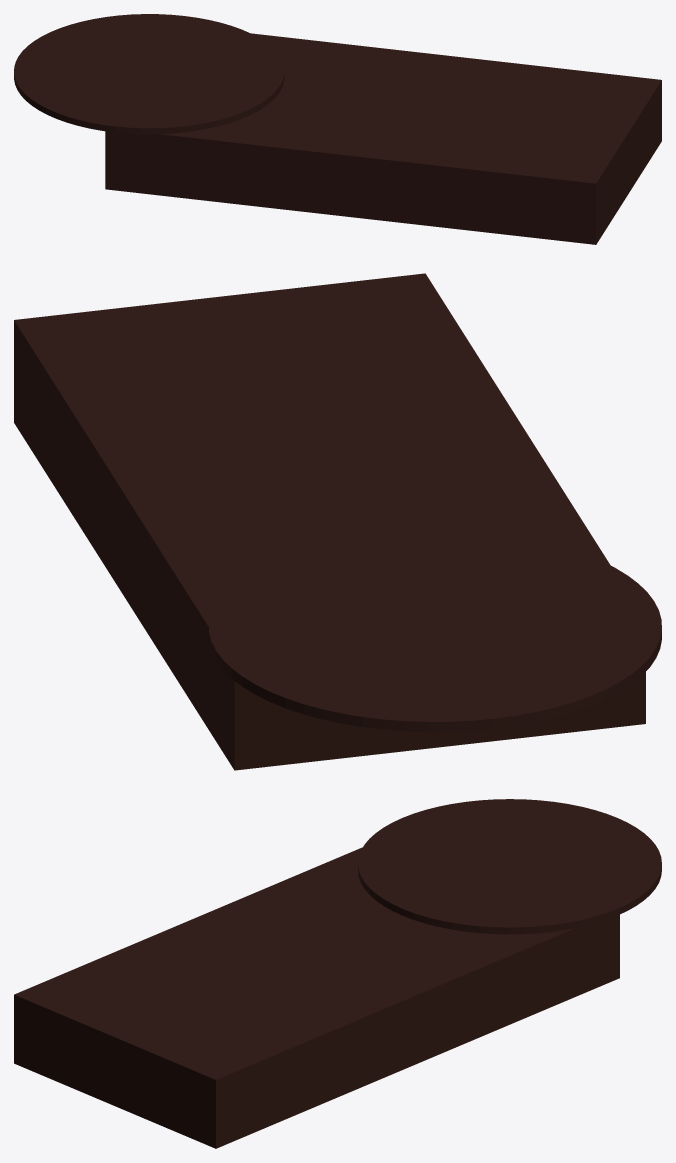
Rendered from RocketPlatform.fbx.
The picture shows the model from 3 angles, top to bottom: view 1: azimuth 30°, elevation 25°; view 2: azimuth 150°, elevation 25°; view 3: azimuth 270°, elevation 25°; orthographic projection. The views are drawn at different scales.
Visible parts, largest first — view 1: Catwalk, Pad; view 2: Catwalk, Pad; view 3: Catwalk, Pad.
Part boxes in pixels (box(x1,y1,x2,y2)): Catwalk: box(105, 33, 661, 244); Pad: box(14, 14, 284, 134); Catwalk: box(14, 273, 645, 770); Pad: box(208, 530, 661, 732); Catwalk: box(14, 847, 619, 1148); Pad: box(358, 799, 661, 934).
Bounding box in the file's own units: 1705 × 221 × 1705.
